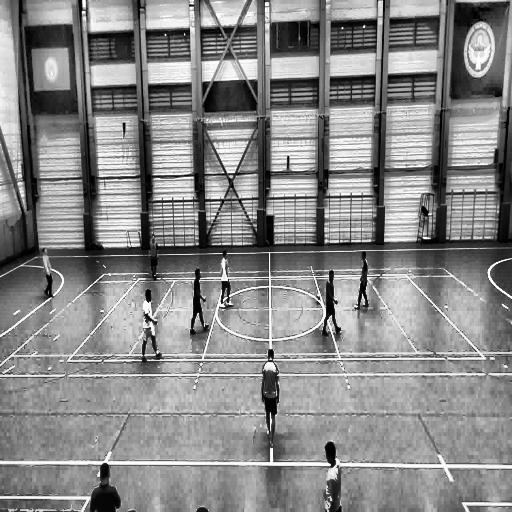ball: (315, 292, 322, 304)
player: (262, 348, 279, 447), (142, 289, 161, 362), (324, 441, 342, 512), (190, 268, 208, 334), (322, 270, 340, 336), (350, 250, 366, 310), (219, 250, 233, 310), (42, 247, 54, 298), (147, 233, 158, 279)
